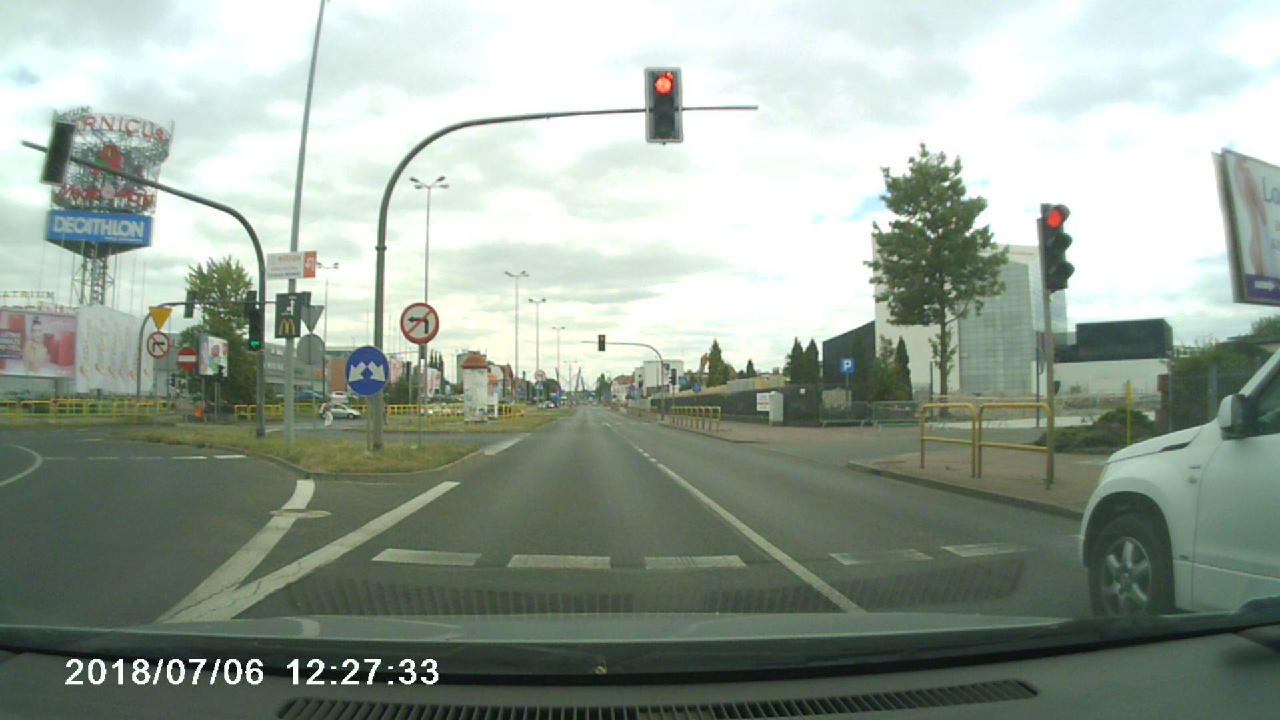A7: (148, 305, 173, 332)
B21: (401, 303, 439, 341)
B22: (147, 333, 169, 359)
Red: (1042, 206, 1069, 288), (650, 69, 677, 139)
